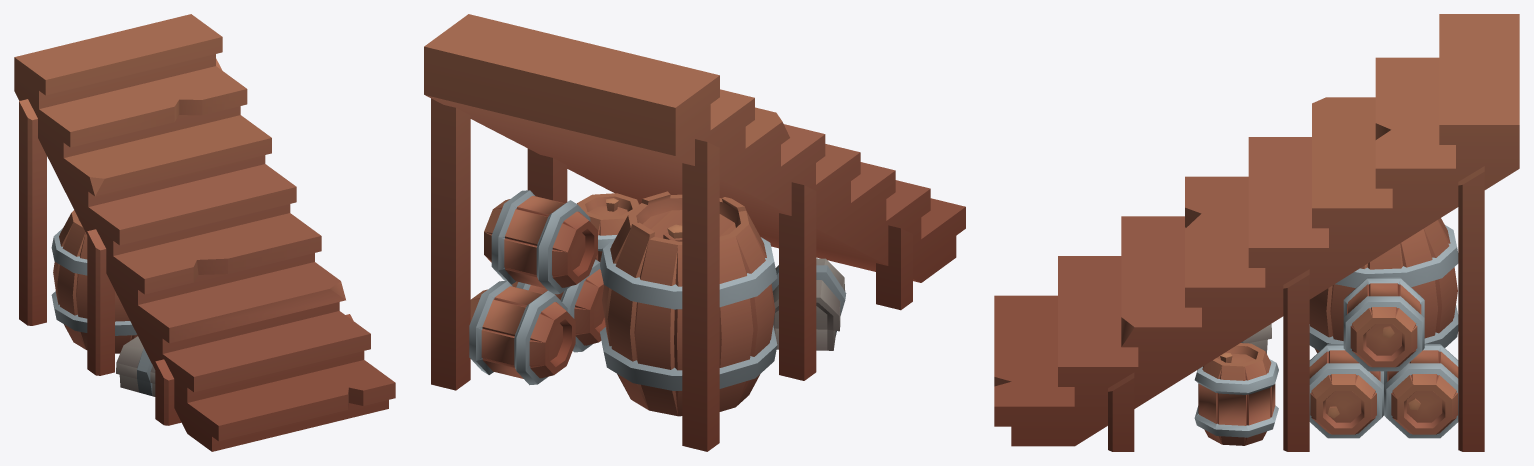
File: stairs_wood_decorated.gltf
The picture shows the model from 3 angles, left to right: view 1: azimuth 30°, elevation 25°; view 2: azimuth 150°, elevation 25°; view 3: azimuth 270°, elevation 25°; orthographic projection. The views are drawn at different scales.
Parts seen in each view (by area): view 1: stairs_wood_decorated; view 2: stairs_wood_decorated; view 3: stairs_wood_decorated.
Boxes of the visible parts, box(x1,y1,x2,y2) form: stairs_wood_decorated: box(14, 14, 395, 451); stairs_wood_decorated: box(424, 14, 965, 451); stairs_wood_decorated: box(994, 14, 1519, 451).
Size of the model in its own units: 3.3 by 4.05 by 6.
1 material, 1 textured.
